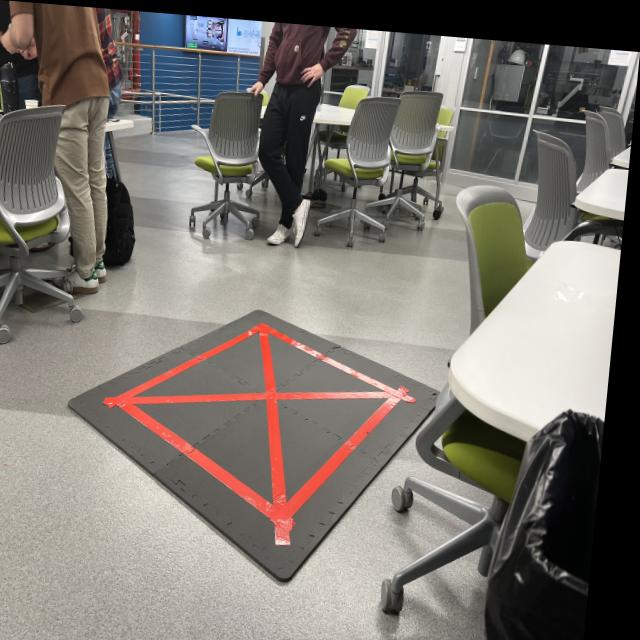landingPads: (66, 292, 453, 583)
